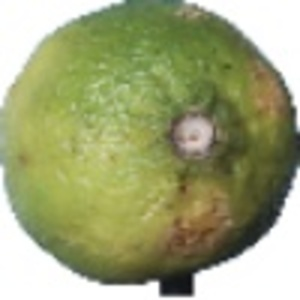limão: (1, 1, 300, 297)
